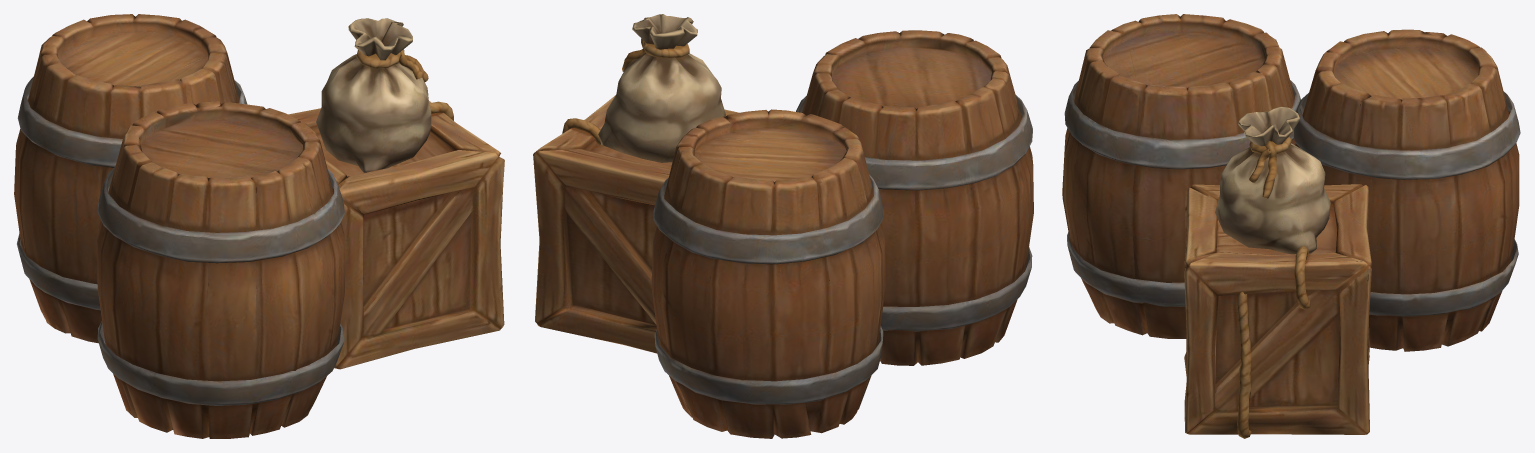
The model's file is barrels_crates.glb.
3 renders of one model, left to right at view 1: azimuth 30°, elevation 25°; view 2: azimuth 150°, elevation 25°; view 3: azimuth 270°, elevation 25°, orthographic. The views are drawn at different scales.
Parts seen in each view (by area): view 1: geometry_0; view 2: geometry_0; view 3: geometry_0.
Part boxes in pixels (x1,y1,x2,y2): geometry_0: (14,14,504,438); geometry_0: (533,14,1033,438); geometry_0: (1062,14,1520,438).
Size of the model in its own units: 0.9404 by 0.6602 by 0.9585.
Materials: 1 (1 with a texture image).
